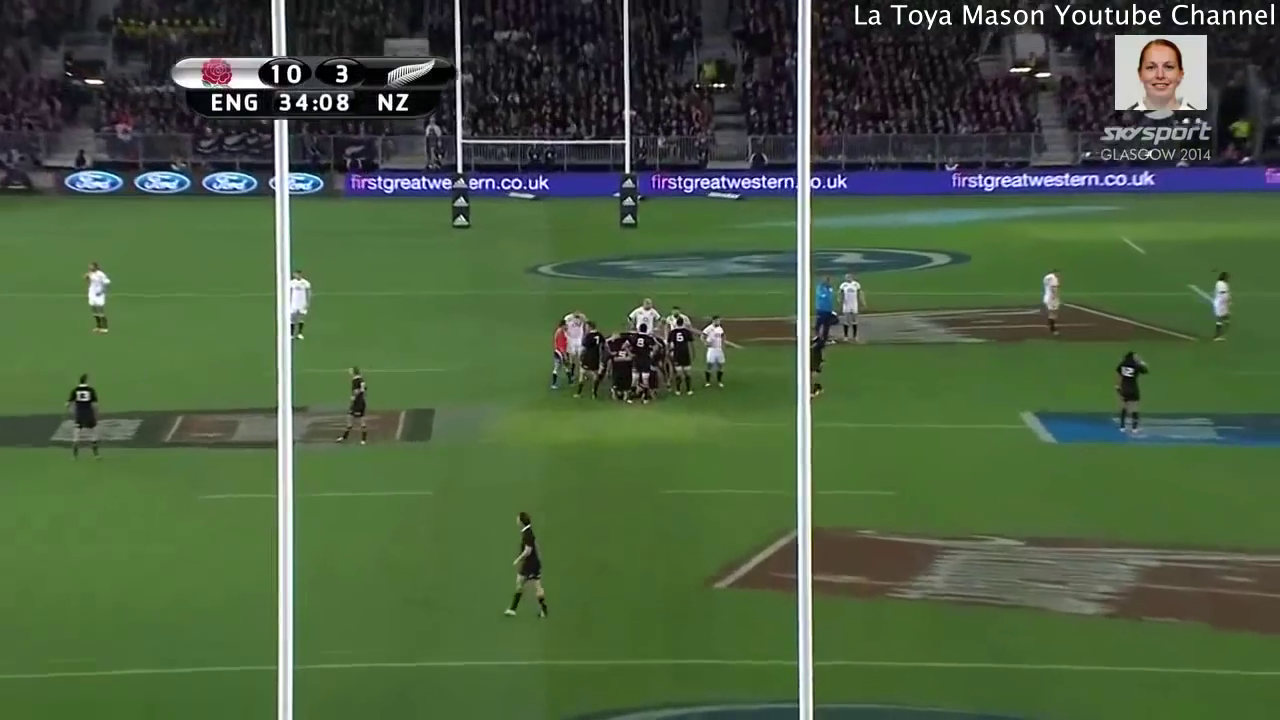player: (498, 508, 563, 628), (73, 256, 127, 341), (62, 373, 110, 462), (1103, 345, 1149, 430), (693, 312, 733, 397), (337, 362, 372, 451), (1034, 266, 1071, 336), (628, 319, 656, 411), (1204, 268, 1237, 344), (549, 317, 579, 395), (670, 317, 699, 395), (578, 320, 604, 402), (841, 272, 871, 341), (291, 264, 315, 341), (812, 267, 837, 332), (812, 325, 827, 403)
post: (434, 1, 628, 232)
